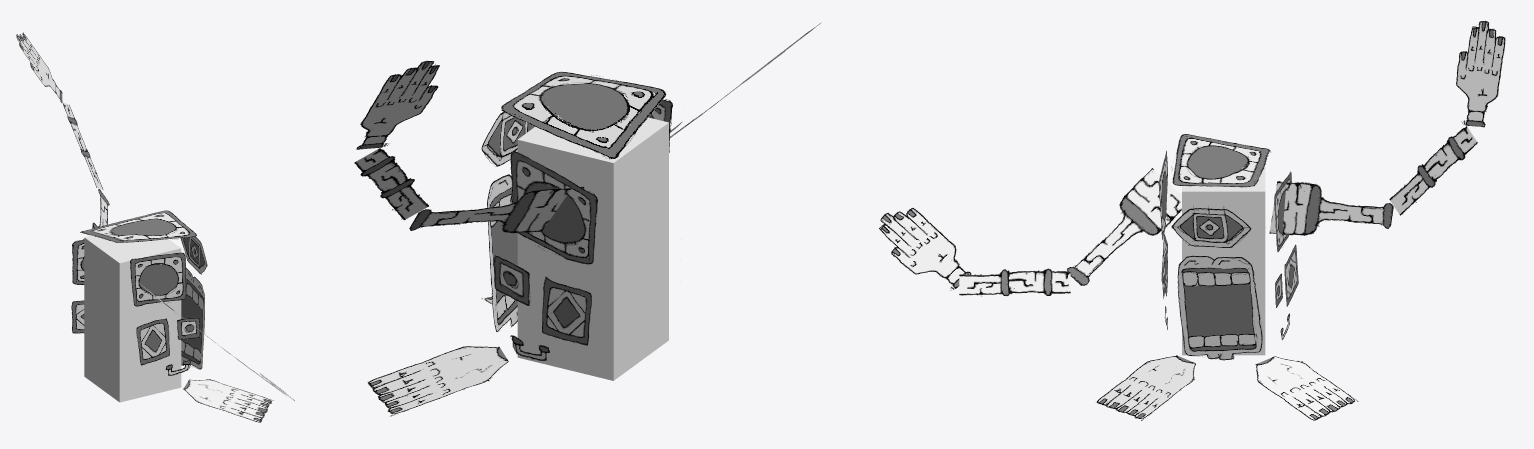
The model's file is oracle.obj.
The picture shows the model from 3 angles, left to right: view 1: azimuth 30°, elevation 25°; view 2: azimuth 150°, elevation 25°; view 3: azimuth 270°, elevation 25°; orthographic projection. The views are drawn at different scales.
Visible parts, largest first — view 1: cube, cuboid, plane; view 2: cube, cuboid, plane; view 3: plane, cuboid, cube.
Part boxes in pixels (x1,y1,x2,y2): cube: (84,235,181,402); cuboid: (71,210,207,375); plane: (16,32,294,422); cube: (517,117,668,380); cuboid: (481,71,672,360); plane: (354,22,821,416); plane: (879,20,1505,421); cuboid: (1159,134,1298,360); cube: (1182,165,1265,355).
Bounding box in the file's own units: 1.02 × 1.72 × 2.97.
1 material, 1 textured.
